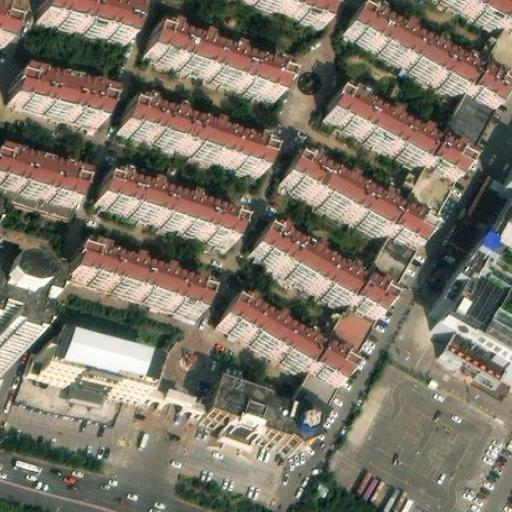building: (428, 153, 512, 376), (345, 6, 501, 112), (276, 152, 426, 257), (321, 85, 464, 189), (248, 226, 390, 324), (214, 297, 350, 391), (119, 86, 271, 166), (147, 15, 290, 92), (99, 161, 240, 237), (68, 234, 204, 308), (39, 334, 161, 409), (204, 391, 320, 451), (15, 60, 112, 115), (43, 0, 138, 34), (0, 246, 63, 297), (320, 306, 373, 365), (290, 374, 334, 417)
